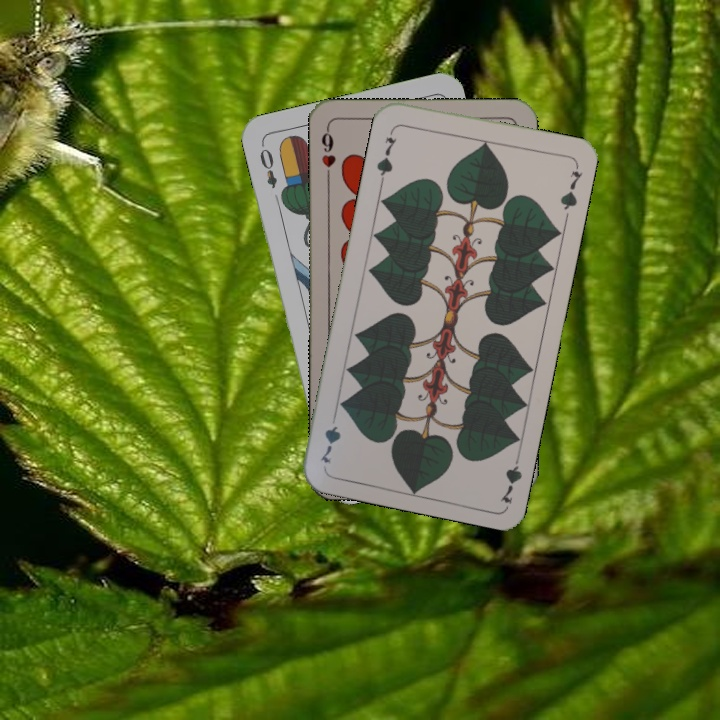EO: (255, 140, 280, 191)
G7: (496, 447, 525, 505), (372, 133, 399, 183)
H9: (318, 124, 338, 183)
